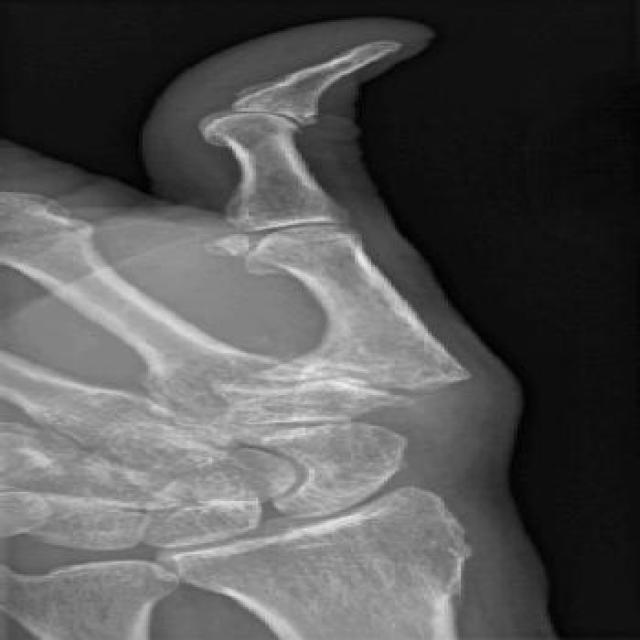Fracture: (198, 94, 304, 134)
